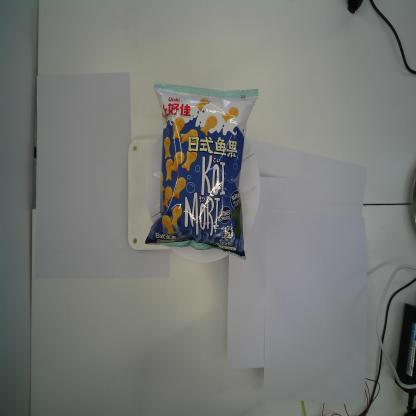Puffed Food: (145, 82, 259, 261)
